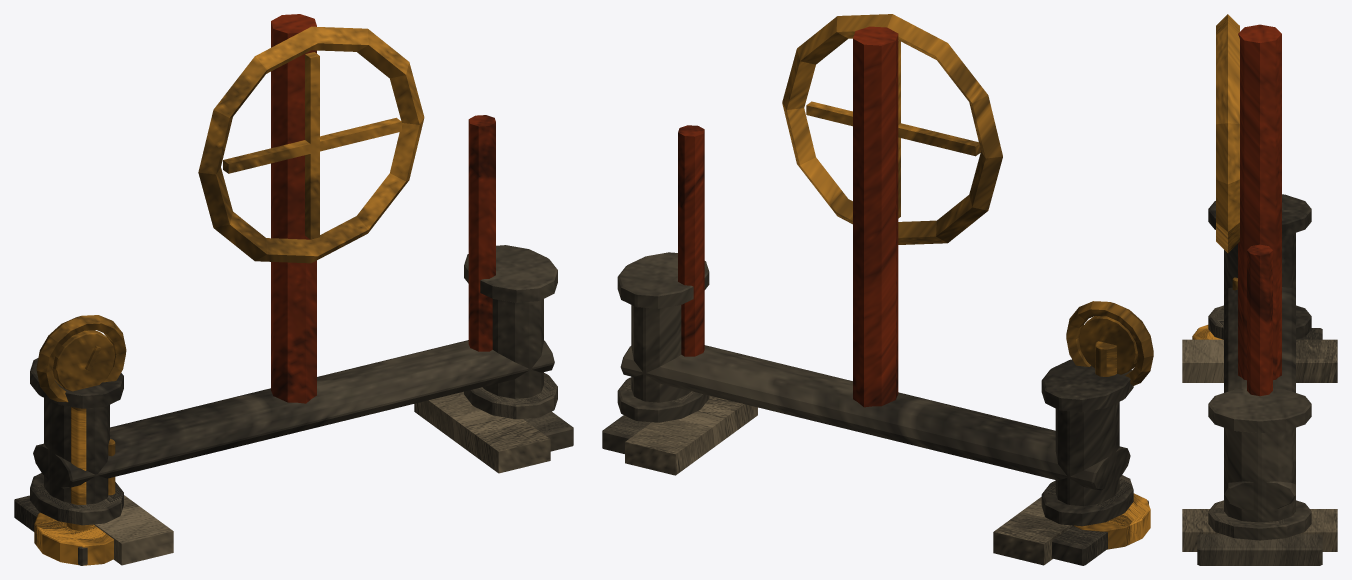
Rendered from west-terrace-pipe-header.glb.
The picture shows the model from 3 angles, left to right: view 1: azimuth 30°, elevation 25°; view 2: azimuth 150°, elevation 25°; view 3: azimuth 270°, elevation 25°; orthographic projection. The views are drawn at different scales.
Visible parts, largest first — view 1: west-terrace-pipe-header; view 2: west-terrace-pipe-header; view 3: west-terrace-pipe-header.
Part boxes in pixels (box(x1,y1,x2,y2)): west-terrace-pipe-header: box(14, 14, 573, 565); west-terrace-pipe-header: box(602, 14, 1153, 565); west-terrace-pipe-header: box(1182, 14, 1337, 565).
Size of the model in its own units: 5.57 by 4.75 by 1.55.
Materials: 1 (1 with a texture image).
